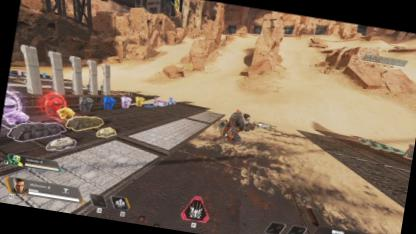Target: (218, 108, 252, 144)
